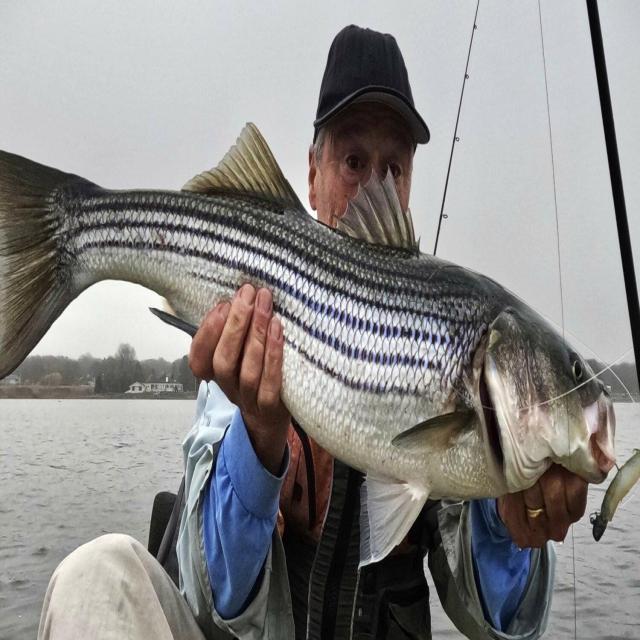Bass - Striped: (0, 124, 615, 561), (590, 450, 640, 540)
